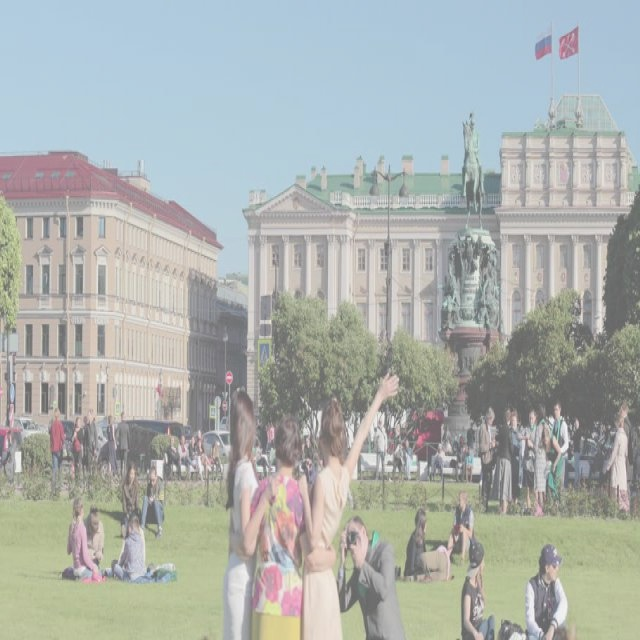pessoa: (296, 366, 401, 638), (233, 411, 337, 638), (220, 386, 280, 638), (336, 513, 406, 639), (520, 533, 572, 639), (64, 489, 104, 587), (460, 540, 498, 639), (112, 510, 148, 590), (602, 410, 629, 512), (112, 510, 148, 582), (516, 404, 539, 514), (460, 109, 486, 204), (396, 542, 449, 586), (446, 488, 475, 568), (532, 399, 552, 514), (478, 404, 498, 514), (139, 464, 166, 540), (46, 404, 68, 497), (120, 460, 144, 540), (494, 411, 512, 516), (618, 396, 634, 512), (550, 401, 570, 491), (403, 506, 428, 576), (82, 502, 106, 568), (540, 422, 562, 494), (508, 410, 524, 508), (70, 414, 85, 494), (373, 414, 388, 486), (80, 410, 93, 490), (570, 415, 583, 493), (116, 410, 130, 482), (187, 434, 206, 482), (388, 421, 402, 484), (254, 437, 274, 479), (195, 438, 214, 482), (106, 413, 118, 479), (193, 426, 206, 484), (166, 434, 181, 478), (5, 436, 17, 490), (210, 437, 224, 483), (431, 441, 446, 483), (176, 433, 192, 472), (454, 433, 466, 484), (86, 406, 98, 456), (442, 422, 454, 458), (465, 442, 474, 484), (466, 421, 476, 451), (303, 434, 314, 460), (268, 414, 276, 449), (264, 420, 272, 453), (295, 438, 306, 462), (403, 437, 413, 459), (92, 414, 96, 426)
